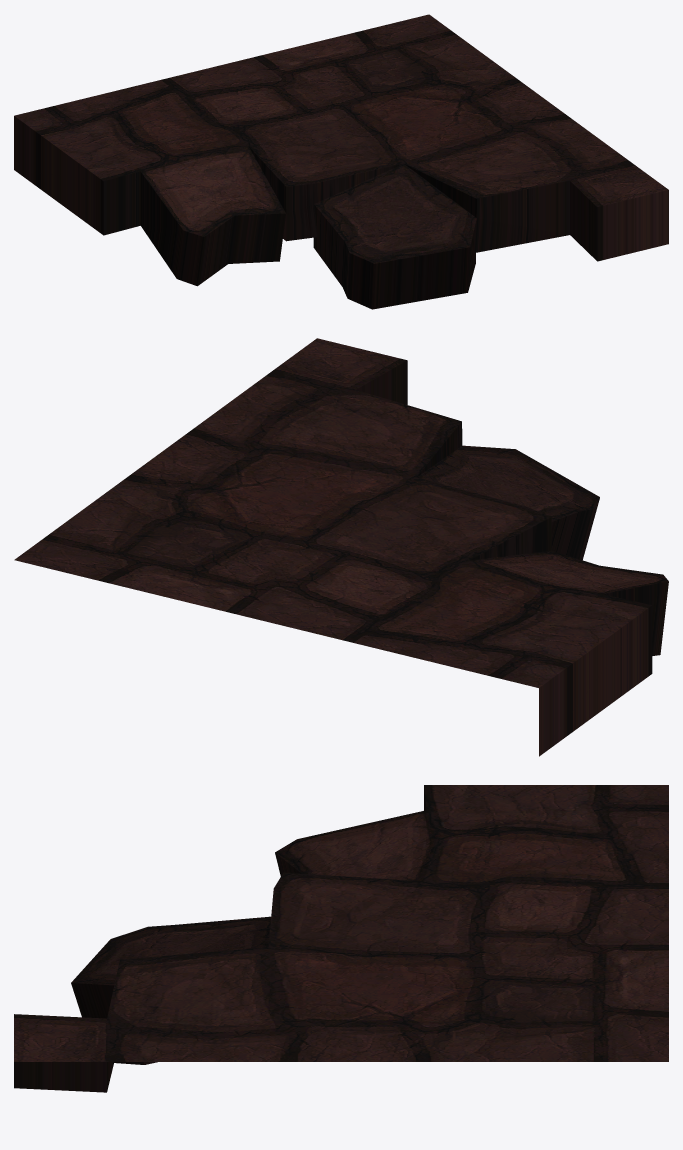
File: lava_floor_brokendiagonal_02.fbx
3 renders of one model, top to bottom at view 1: azimuth 30°, elevation 25°; view 2: azimuth 150°, elevation 25°; view 3: azimuth 270°, elevation 25°, orthographic. The views are drawn at different scales.
Parts seen in each view (by area): view 1: obj1.057; view 2: obj1.057; view 3: obj1.057.
Part boxes in pixels (x1,y1,x2,y2): obj1.057: (14, 14, 668, 309); obj1.057: (14, 338, 668, 756); obj1.057: (14, 785, 668, 1092).
Bounding box in the file's own units: 4 × 0.8364 × 4.
